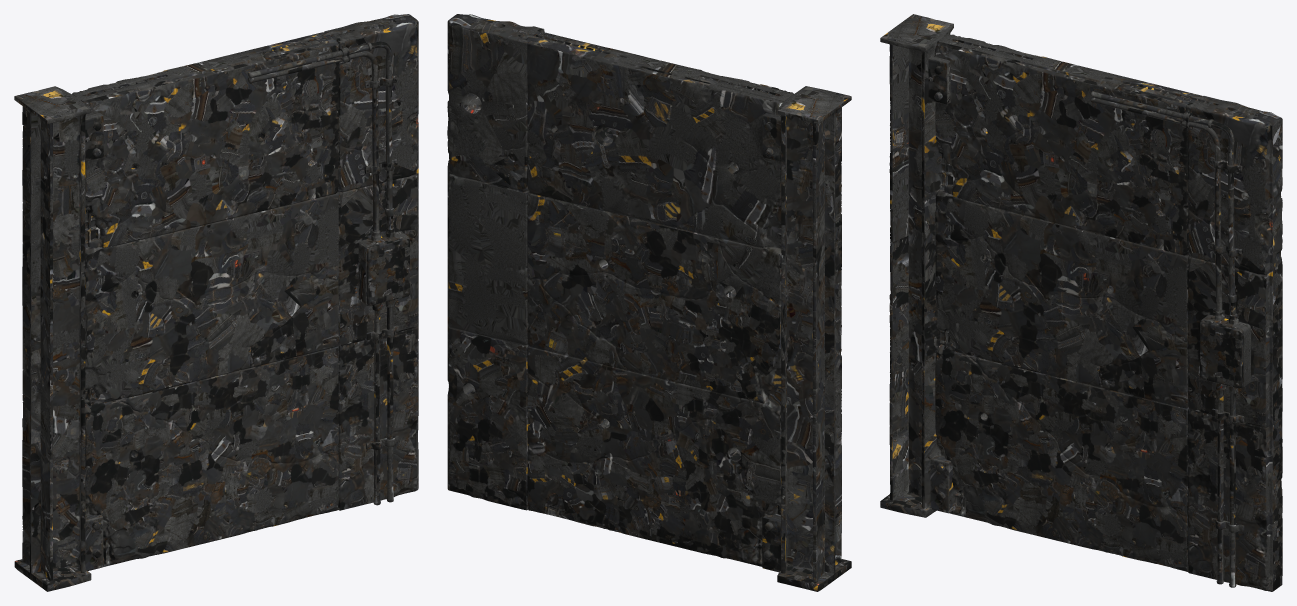
File: SM_A07K_WallPanel.fbx
3 views of the same model, side by side, from view 1: azimuth 30°, elevation 25°; view 2: azimuth 150°, elevation 25°; view 3: azimuth 330°, elevation 25° (orthographic).
Parts seen in each view (by area): view 1: SM_A07K_WallPanel; view 2: SM_A07K_WallPanel; view 3: SM_A07K_WallPanel.
Part boxes in pixels (bbox=[...]): SM_A07K_WallPanel: bbox=[14, 14, 418, 591]; SM_A07K_WallPanel: bbox=[447, 14, 851, 591]; SM_A07K_WallPanel: bbox=[880, 14, 1282, 591].
Size of the model in its own units: 300 by 353 by 46.7.
